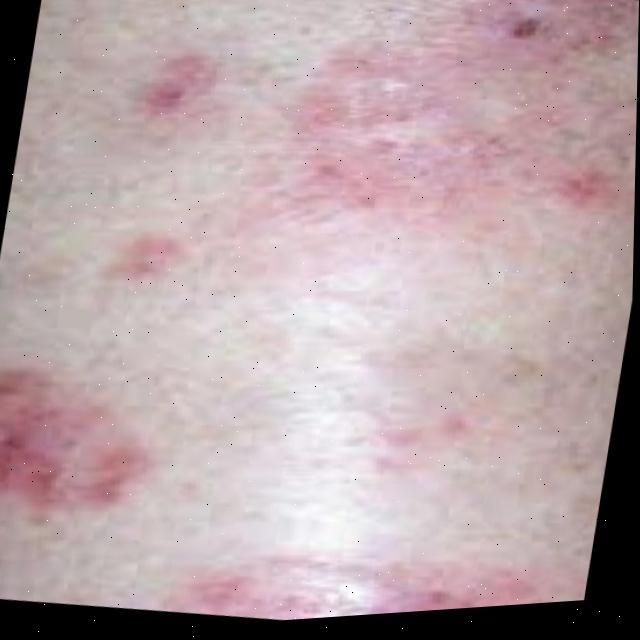Eczema: (248, 5, 587, 224), (201, 534, 519, 626), (0, 355, 128, 514)
